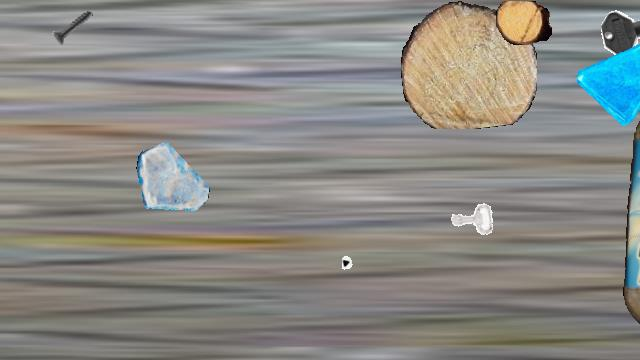glass: (577, 35, 640, 125), (136, 139, 210, 213)
metal: (342, 238, 404, 300), (47, 1, 99, 53), (445, 193, 497, 245), (597, 1, 640, 63), (0, 293, 2, 345)
plastic: (622, 117, 640, 359)
wood: (401, 1, 537, 129), (496, 1, 552, 45)
